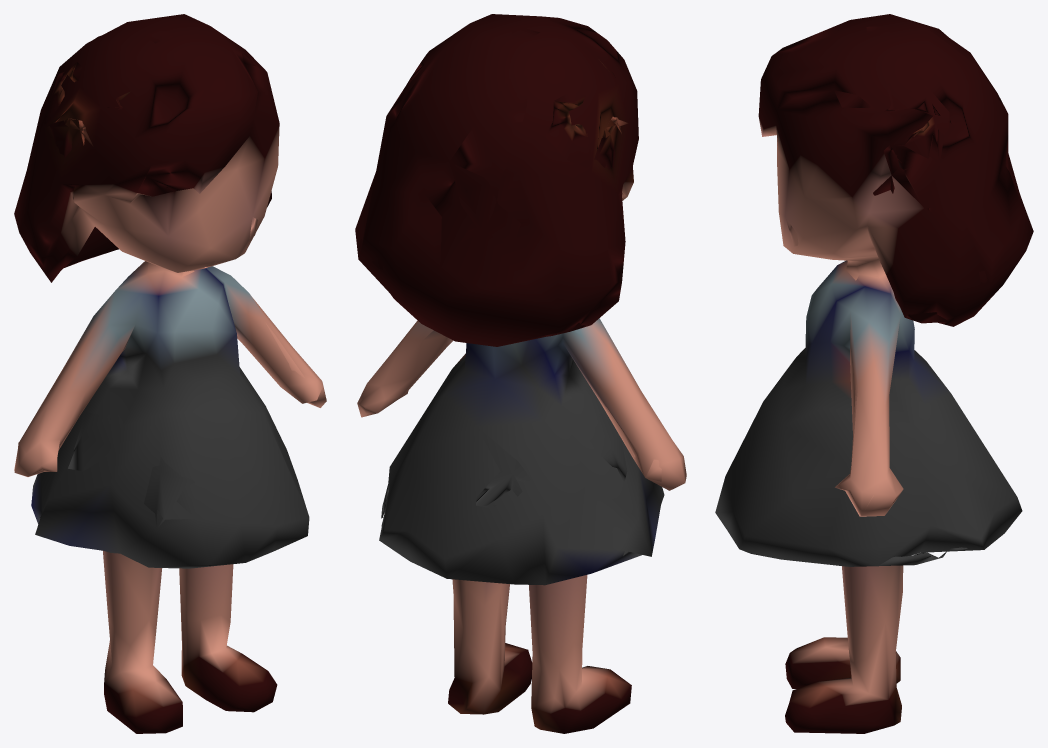
Rendered from gen3d-doll-lod0.glb.
3 renders of one model, left to right at view 1: azimuth 30°, elevation 25°; view 2: azimuth 150°, elevation 25°; view 3: azimuth 270°, elevation 25°, orthographic. The views are drawn at different scales.
Visible parts, largest first — view 1: part_0; view 2: part_0; view 3: part_0.
Boxes of the visible parts, x1,y1,x2,y2 form: part_0: (14, 14, 326, 733); part_0: (355, 14, 686, 733); part_0: (715, 14, 1033, 733).
Size of the model in its own units: 0.4901 by 0.998 by 0.4297.
